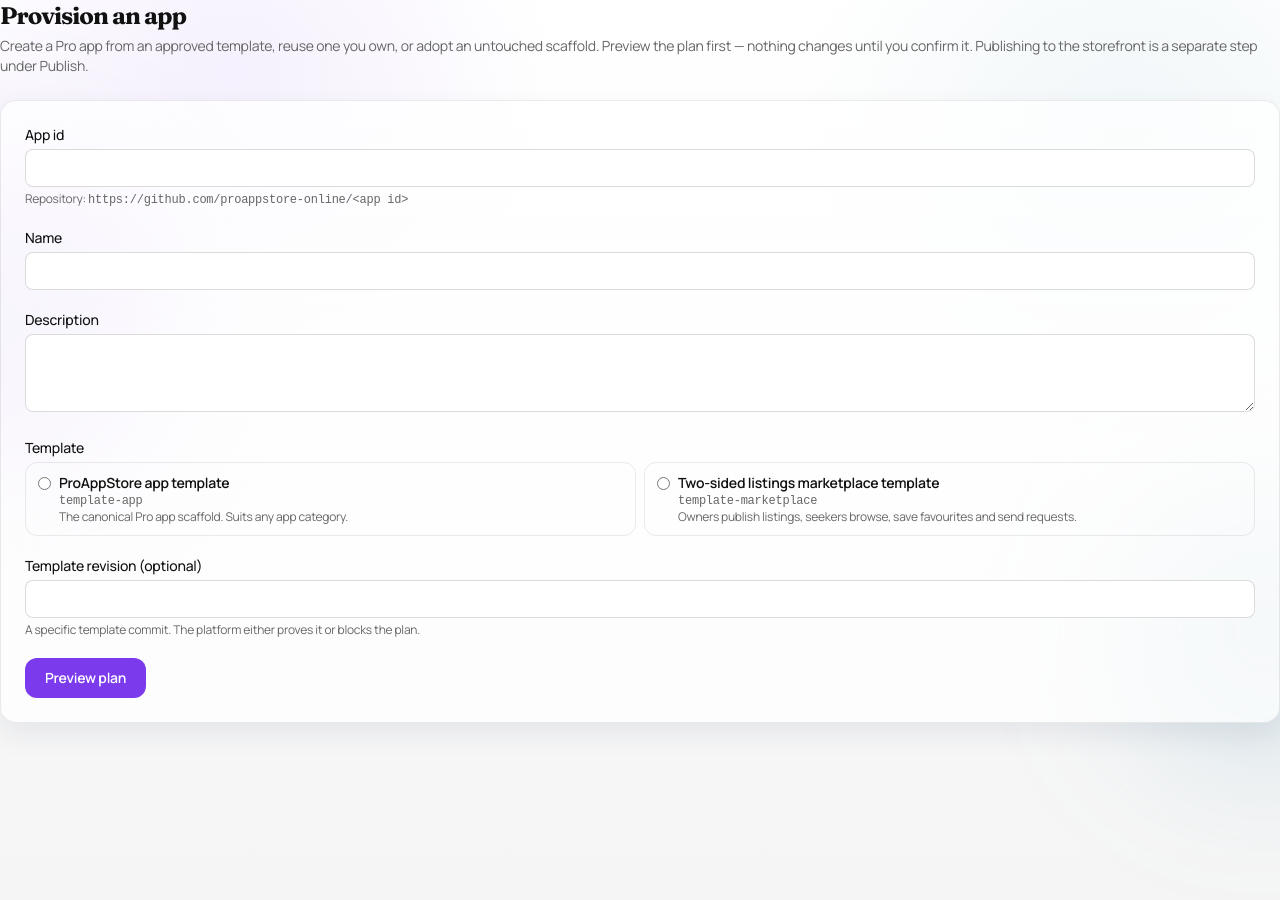
it: ProvisionView preview › omits templateRev when none is given and never sends overrides
In the field labelled "App id": (640, 168) left=25, top=149, right=1255, bottom=187, type "school-clubs"
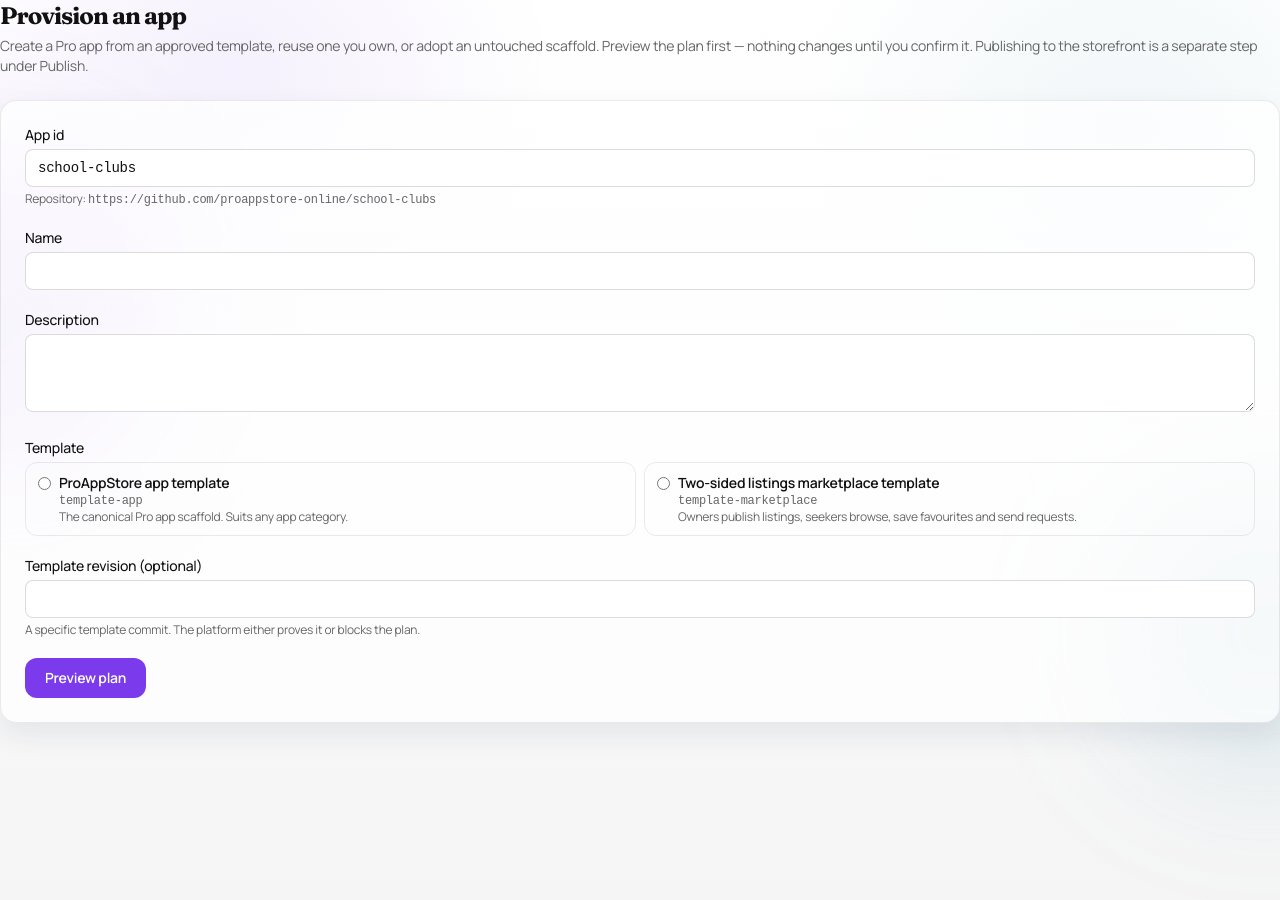
In the field labelled "Name": (640, 271) left=25, top=252, right=1255, bottom=290, type "School Clubs"
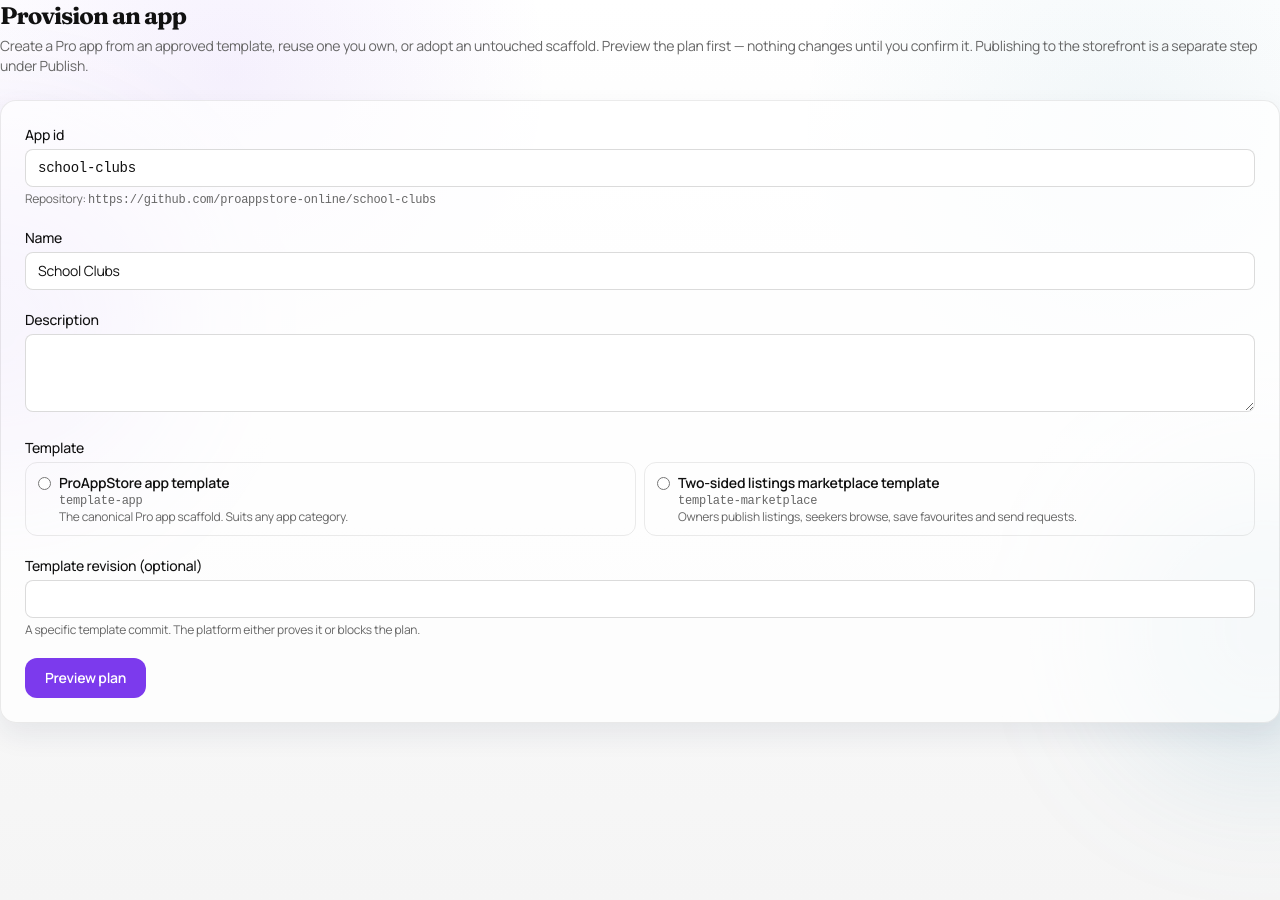
In the text box labelled "Description": (640, 373) left=25, top=334, right=1255, bottom=412, type "Coordinate school clubs."
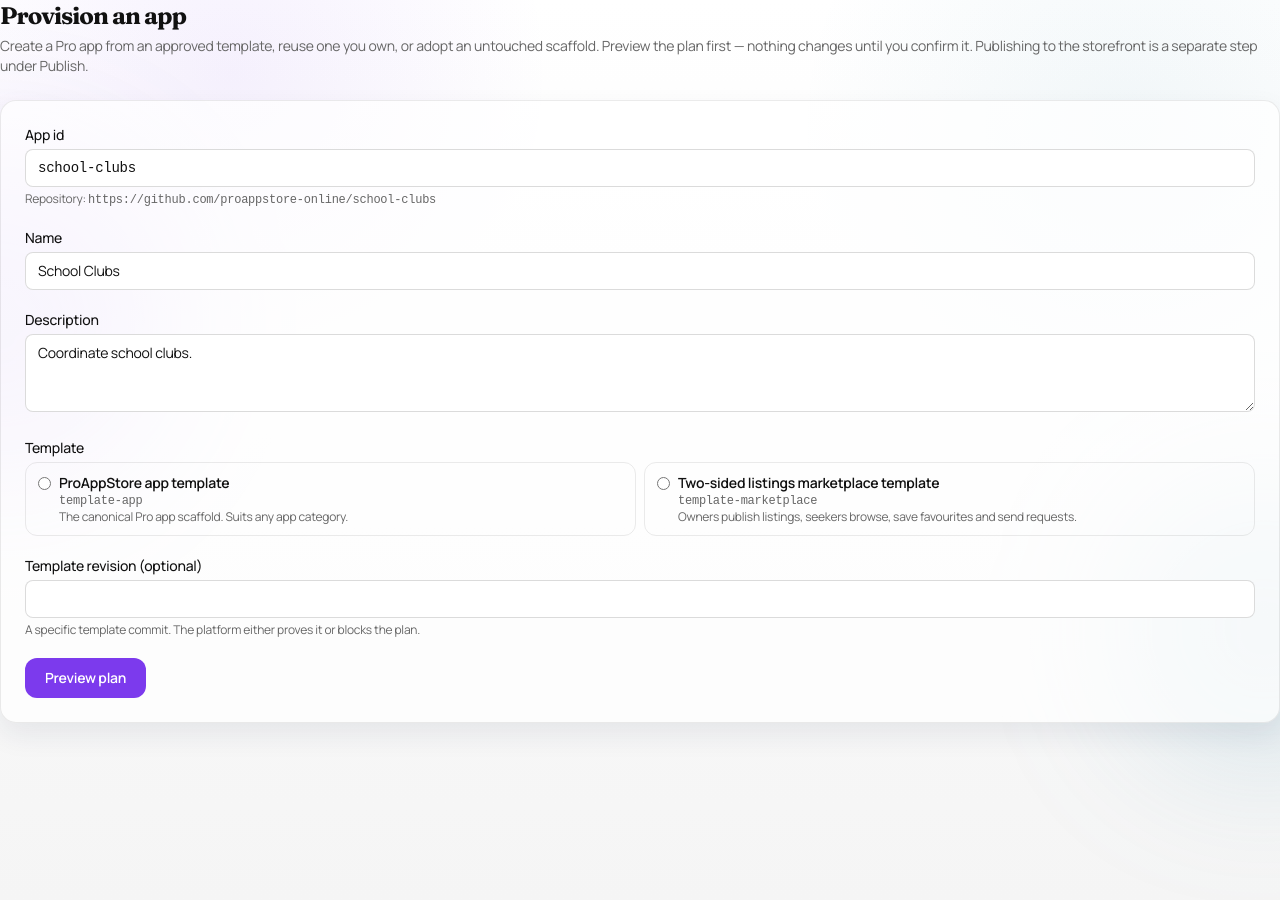
Click the radio button labelled "Two-sided listings": (664, 484) left=657, top=477, right=670, bottom=490
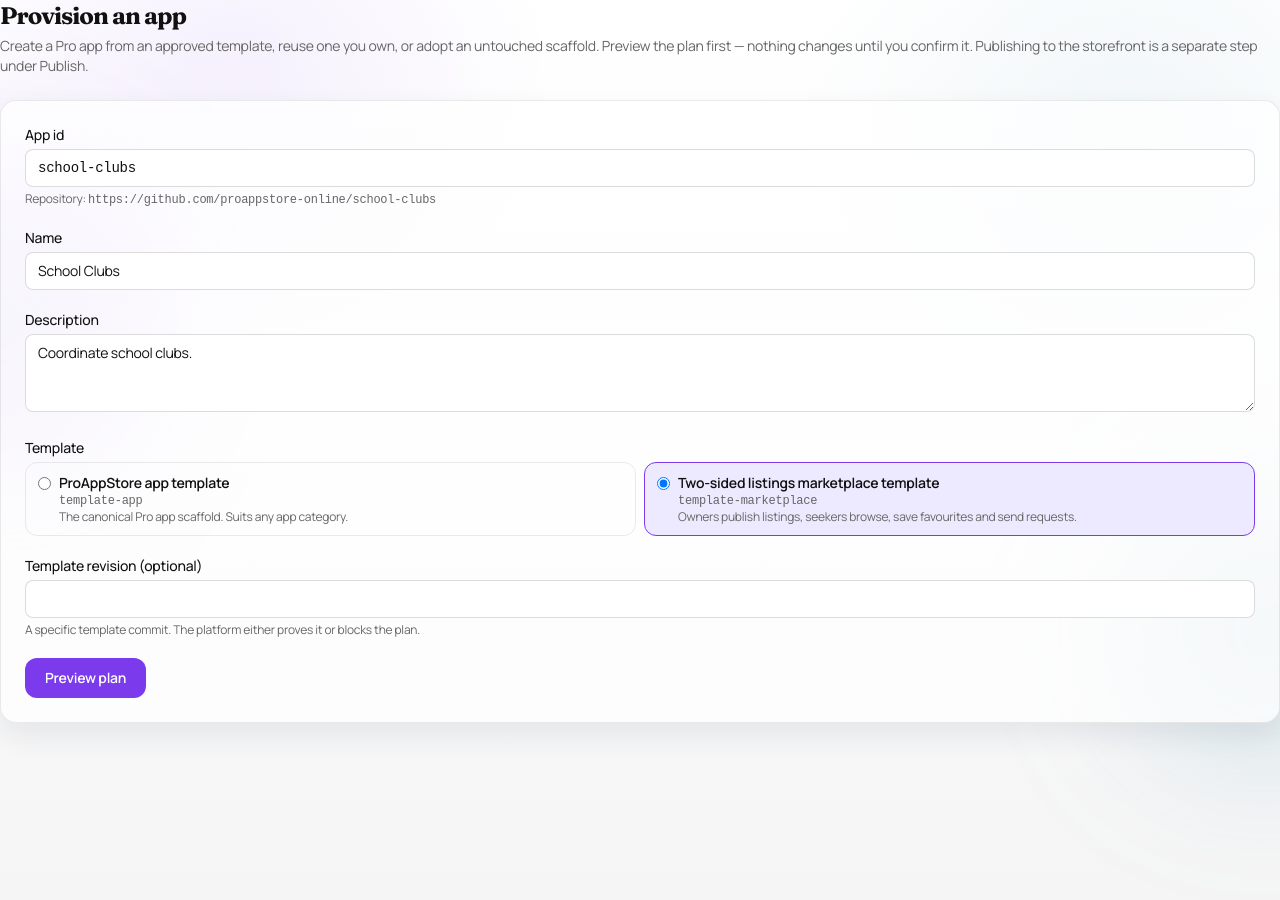
Click the button "Preview plan": (86, 678) left=25, top=658, right=146, bottom=698
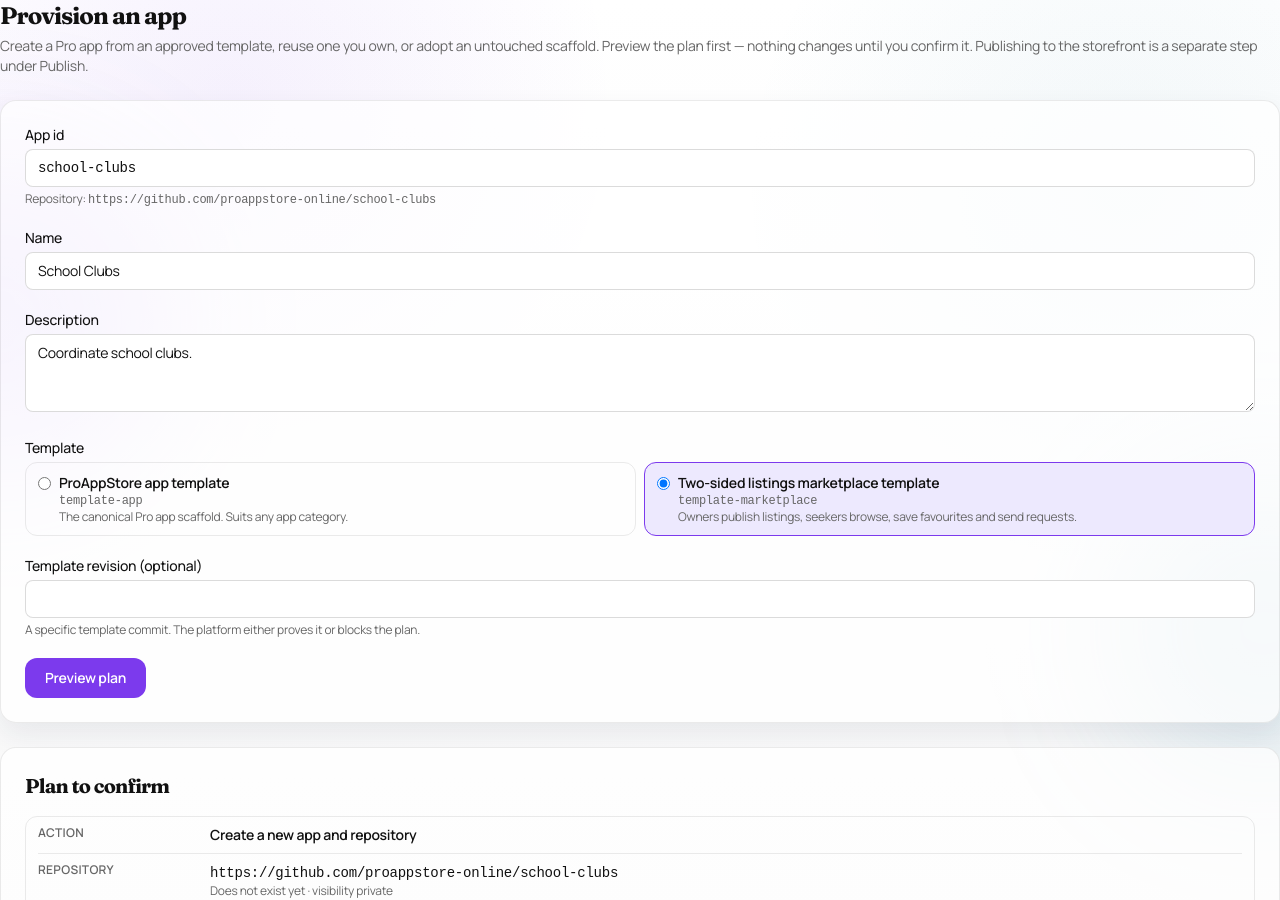
Expected: the heading "Plan to confirm" is shown, left=25, top=773, right=169, bottom=798
